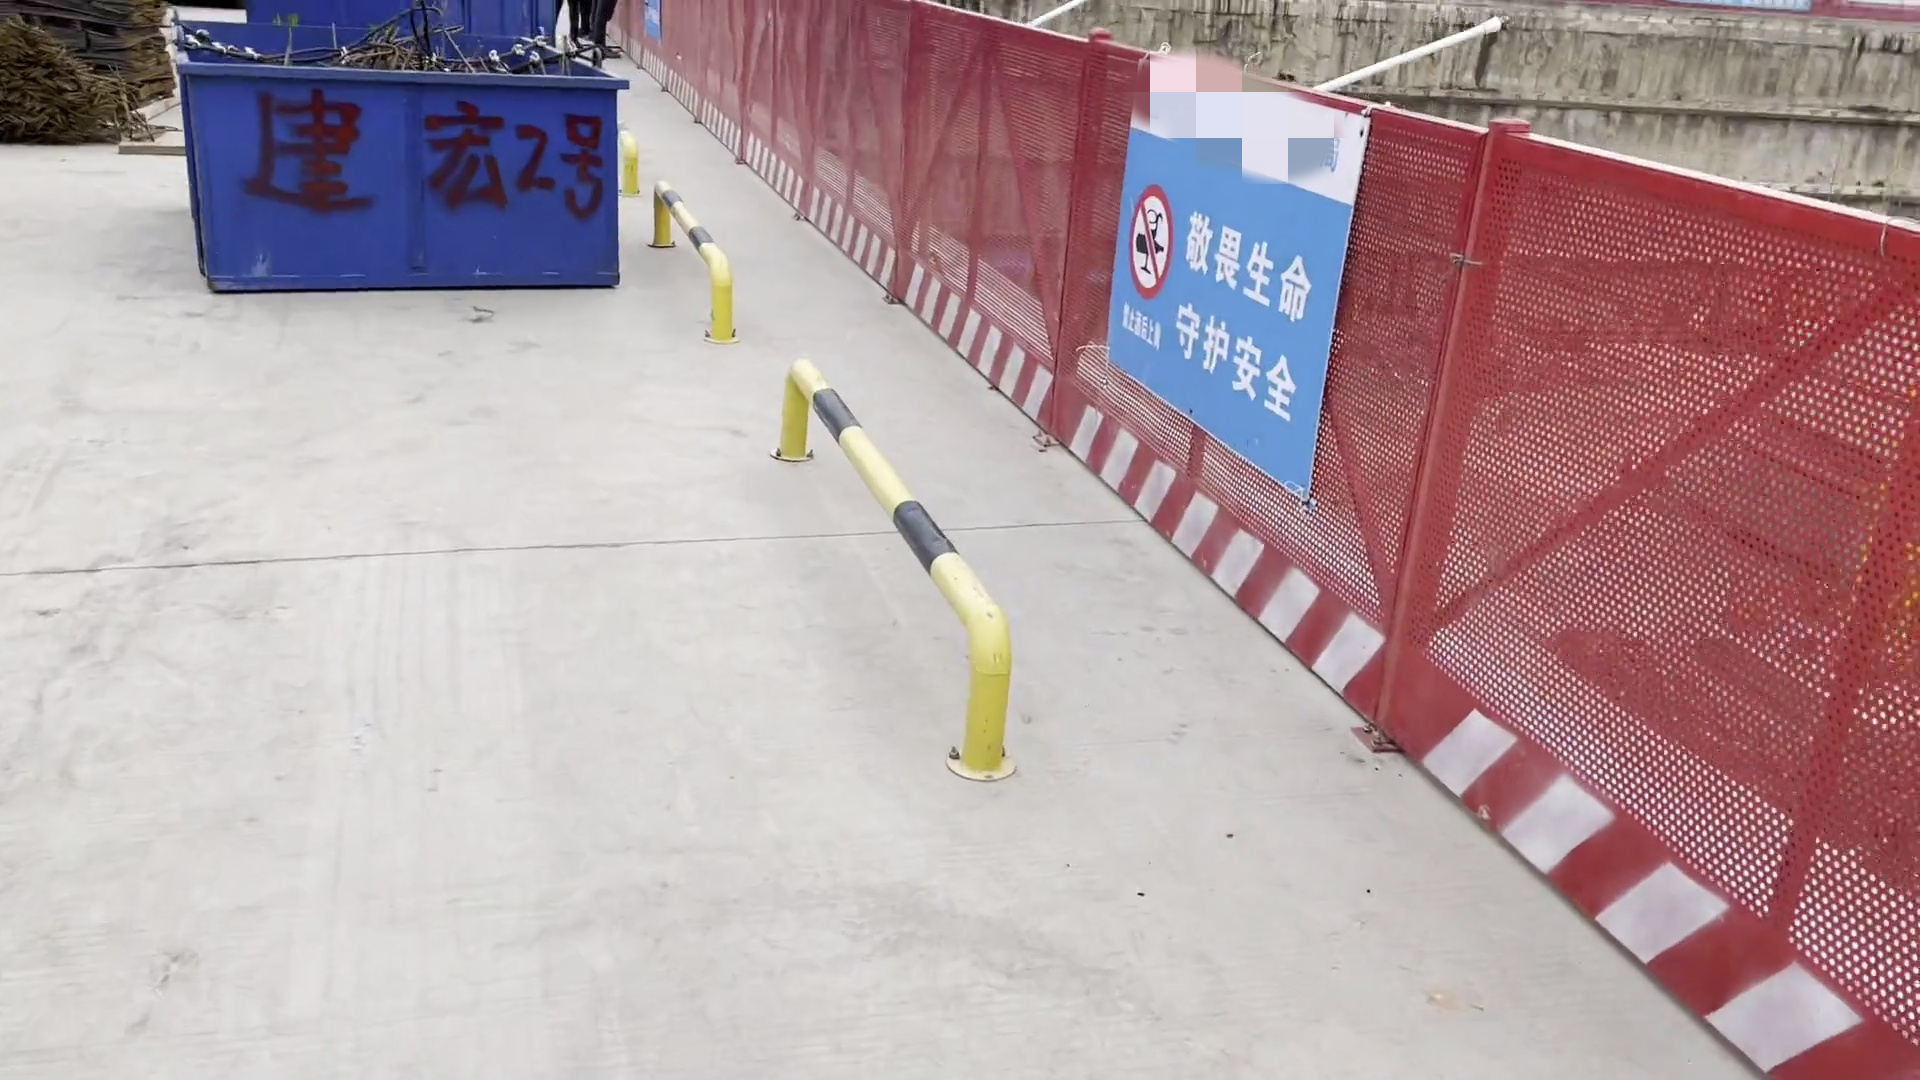fence: (570, 1, 1917, 1072)
hopper: (185, 34, 626, 294), (218, 1, 556, 41)
